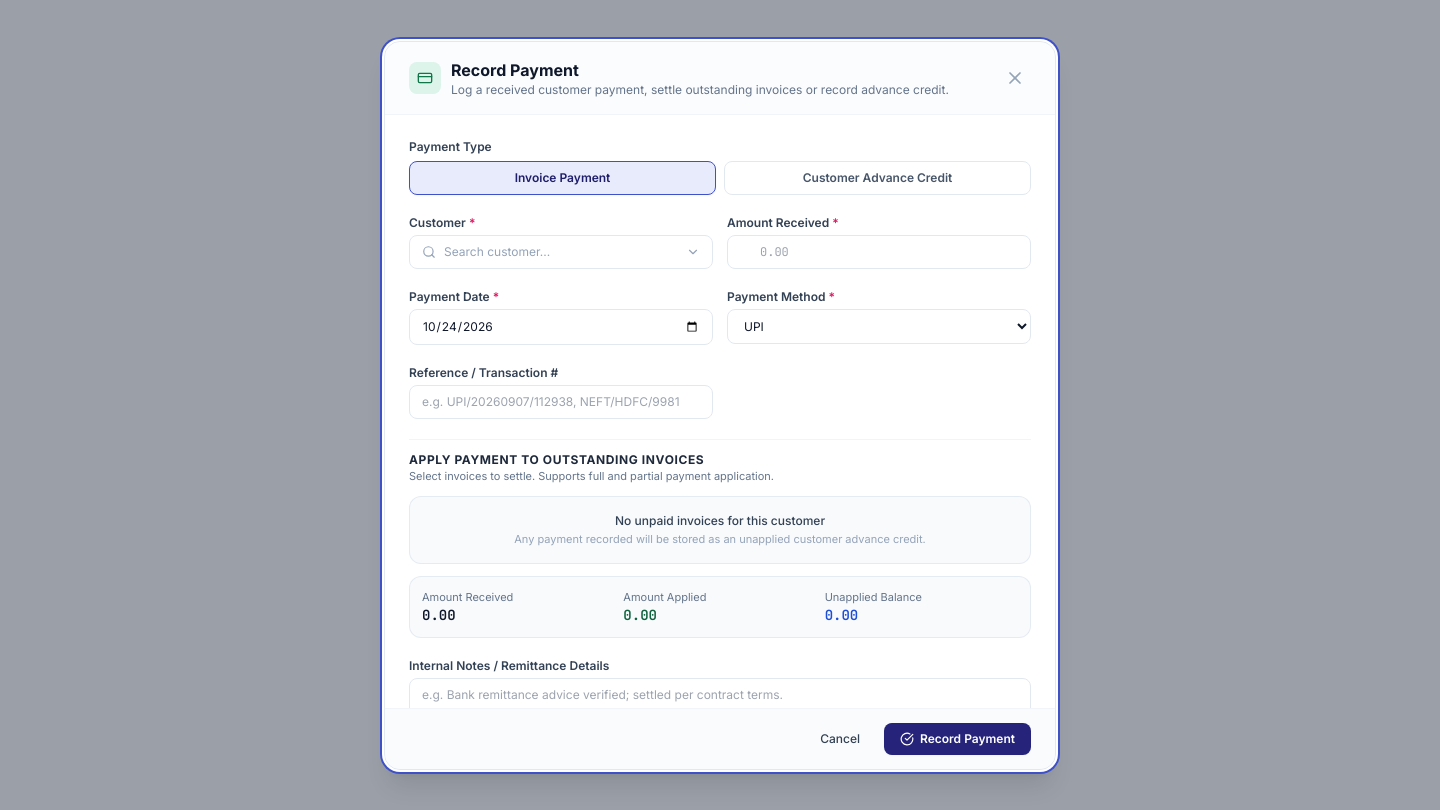
Scenario: <RecordPaymentModal /> amount label › updates the label when a customer is picked from the search list
Click the field with placeholder "Search customer..." at (561, 252), box [444,244,678,260]
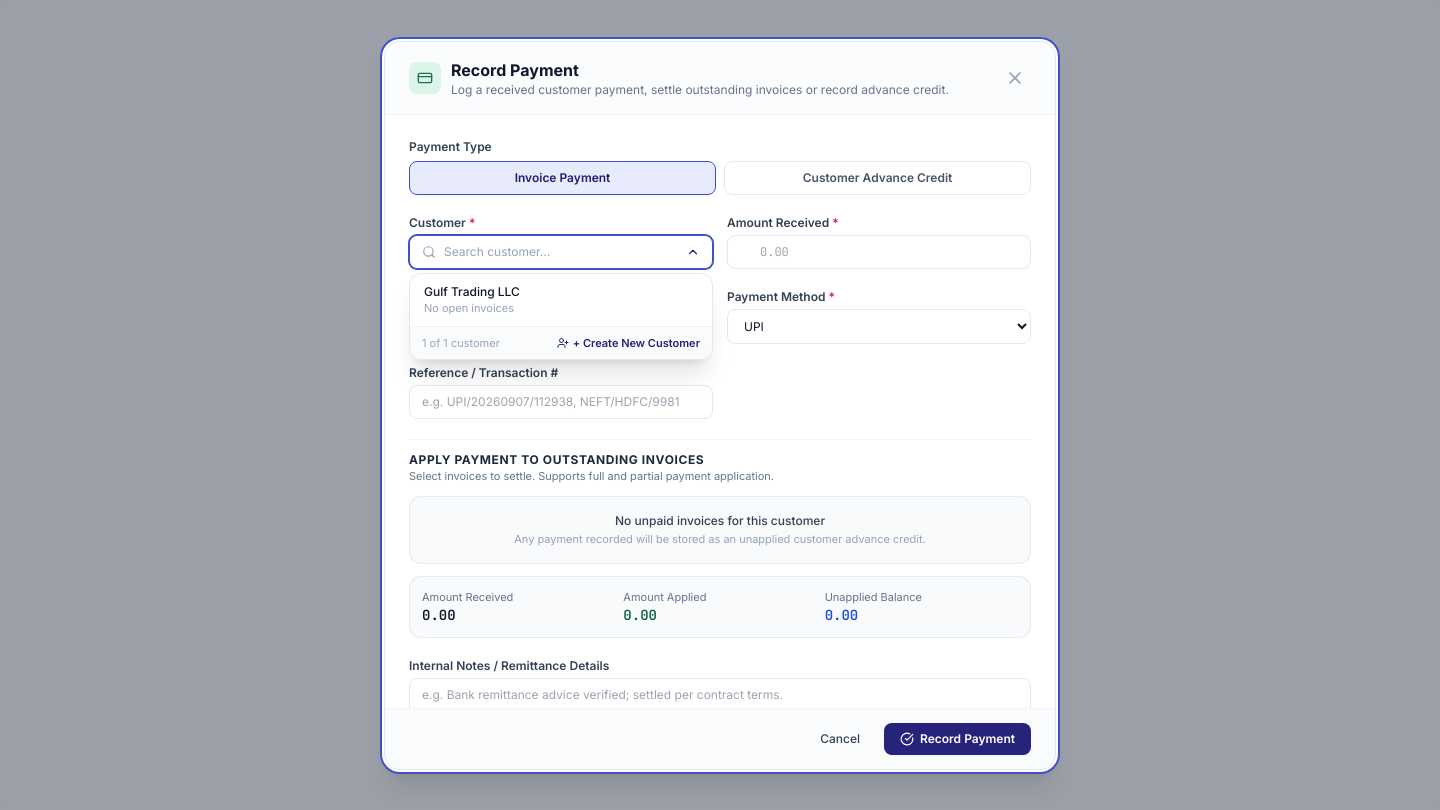
Click the button "Gulf Trading LLC No open invoices" at (472, 291), box [410,274,712,326]
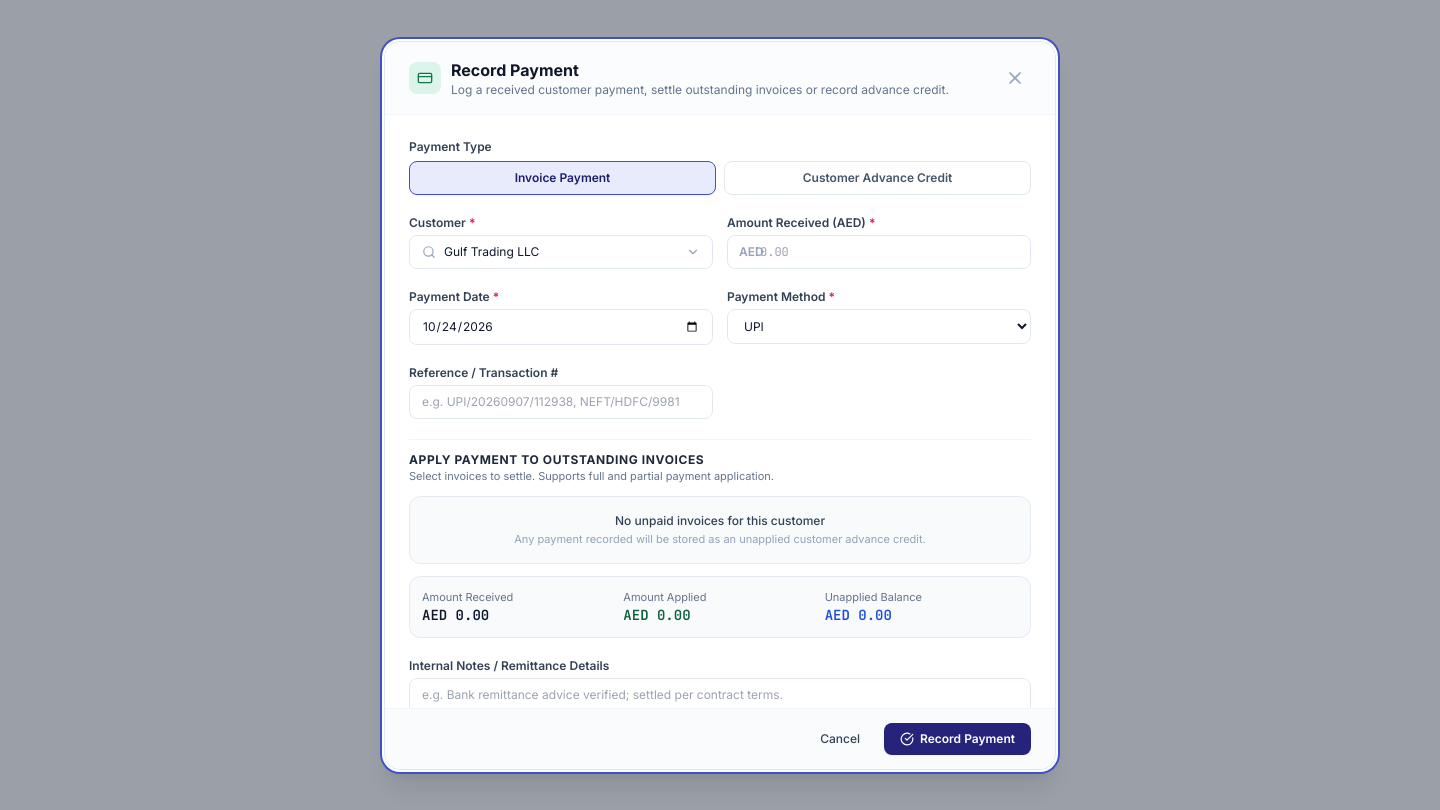
Expected: the 1st text "AED 0.00" is shown, [422,606,489,624]
